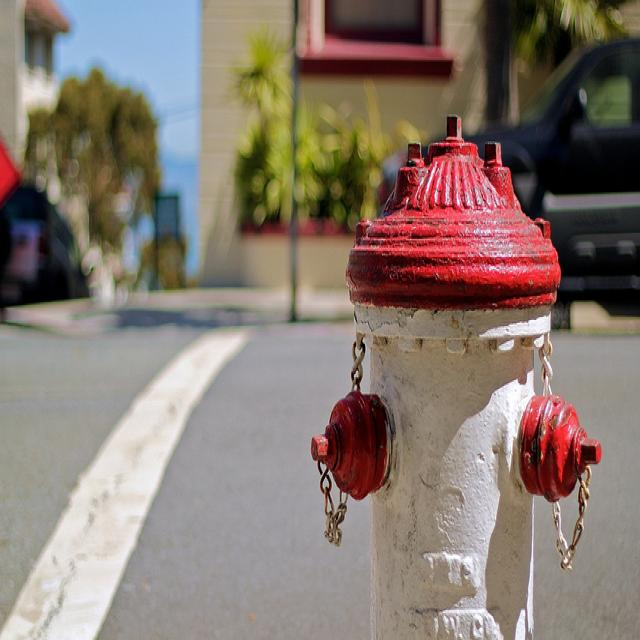Vehicle: (465, 32, 638, 319), (2, 128, 85, 304)
